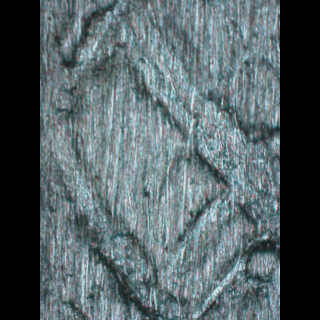d: (62, 3, 276, 319)
